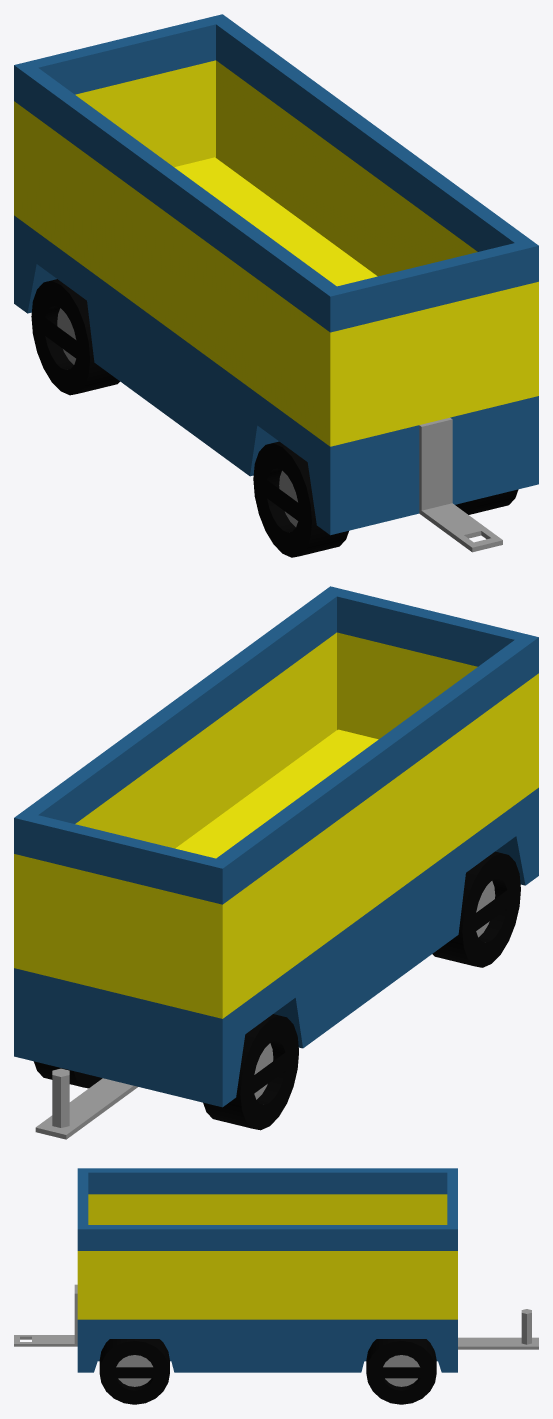
The model's file is CartChassis.fbx.
3 renders of one model, top to bottom at view 1: azimuth 30°, elevation 25°; view 2: azimuth 150°, elevation 25°; view 3: azimuth 270°, elevation 25°, orthographic. The views are drawn at different scales.
Parts seen in each view (by area): view 1: Cart, CartChassis, CartBed, FrontRightWheel, RearRightWheel, CartGrabber, FrontLeftWheel; view 2: Cart, CartChassis, CartBed, RearRightWheel, FrontRightWheel, CartPuller, RearLeftWheel; view 3: Cart, CartChassis, FrontLeftWheel, RearLeftWheel, CartPuller, CartGrabber.
Boxes of the visible parts, <box> form: Cart: <box>14,14,538,446</box>; CartChassis: <box>14,215,538,535</box>; CartBed: <box>174,157,377,286</box>; FrontRightWheel: <box>253,441,348,557</box>; RearRightWheel: <box>31,279,119,395</box>; CartGrabber: <box>419,417,502,552</box>; FrontLeftWheel: <box>455,489,518,514</box>; Cart: <box>14,586,538,1018</box>; CartChassis: <box>14,787,538,1107</box>; CartBed: <box>175,729,378,858</box>; RearRightWheel: <box>203,1014,298,1130</box>; FrontRightWheel: <box>432,851,520,967</box>; CartPuller: <box>35,1068,137,1139</box>; RearLeftWheel: <box>34,1061,102,1088</box>; Cart: <box>77,1168,457,1319</box>; CartChassis: <box>77,1319,457,1372</box>; FrontLeftWheel: <box>99,1339,169,1404</box>; RearLeftWheel: <box>366,1339,436,1404</box>; CartPuller: <box>458,1309,538,1349</box>; CartGrabber: <box>14,1284,77,1346</box>.
Bounding box in the file's own units: 65.64 × 87.6 × 238.
1 material, 1 textured.
